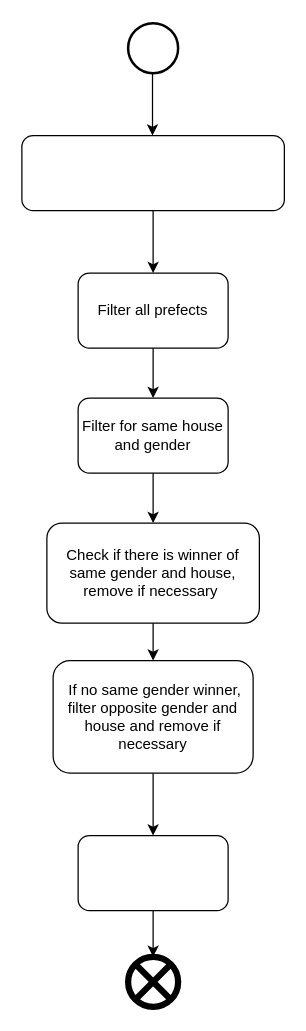
Some shapes in this 306 by 1031 pixel diagram are drawn without their labels. The shapes that lost their labels are listed below. From the top down, each one's centre as x and y in pixels, then its label:
the point at 152,172: makePrefect(selectedStudent);
the point at 152,872: Make selected student a winner
